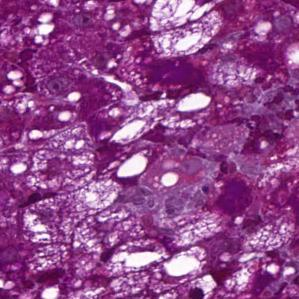ballooning: (147, 2, 223, 62)
